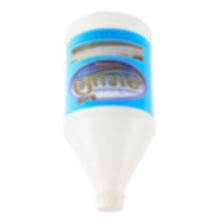cleaning_solution: (60, 10, 158, 213)
